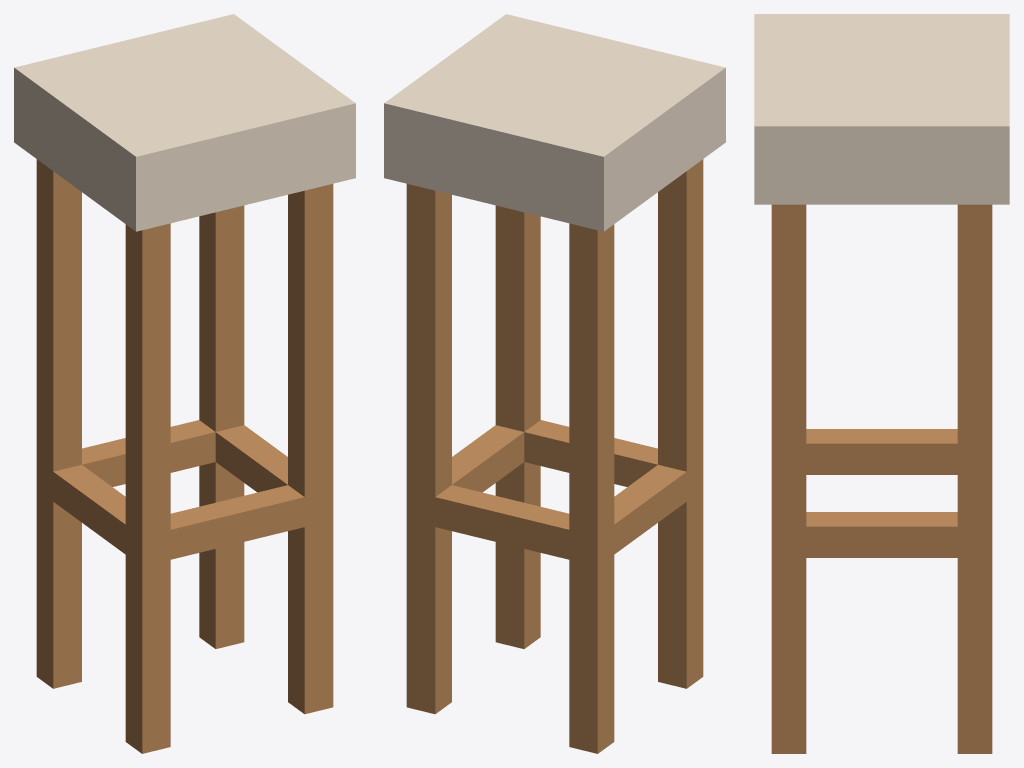
File: kitStoolBarSquare.glb
3 renders of one model, left to right at view 1: azimuth 30°, elevation 25°; view 2: azimuth 150°, elevation 25°; view 3: azimuth 270°, elevation 25°, orthographic. The views are drawn at different scales.
Visible parts, largest first — view 1: kitStoolBarSquare_wood, kitStoolBarSquare_fabric; view 2: kitStoolBarSquare_wood, kitStoolBarSquare_fabric; view 3: kitStoolBarSquare_wood, kitStoolBarSquare_fabric.
Boxes of the visible parts, x1=… form: kitStoolBarSquare_wood: x1=36, y1=159, x2=333, y2=753; kitStoolBarSquare_fabric: x1=14, y1=14, x2=355, y2=231; kitStoolBarSquare_wood: x1=406, y1=159, x2=703, y2=753; kitStoolBarSquare_fabric: x1=384, y1=14, x2=725, y2=231; kitStoolBarSquare_wood: x1=771, y1=204, x2=992, y2=753; kitStoolBarSquare_fabric: x1=754, y1=14, x2=1009, y2=204.
Size of the model in its own units: 0.307 by 0.81 by 0.2952.
